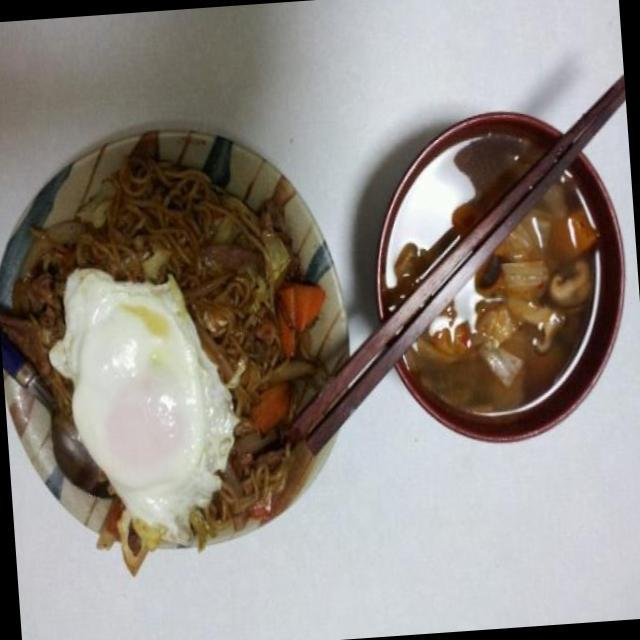Egg: (62, 278, 222, 522)
